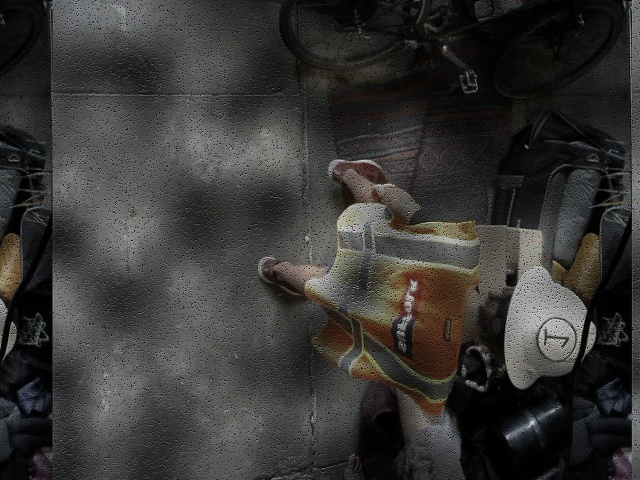one: (537, 317, 575, 360)
